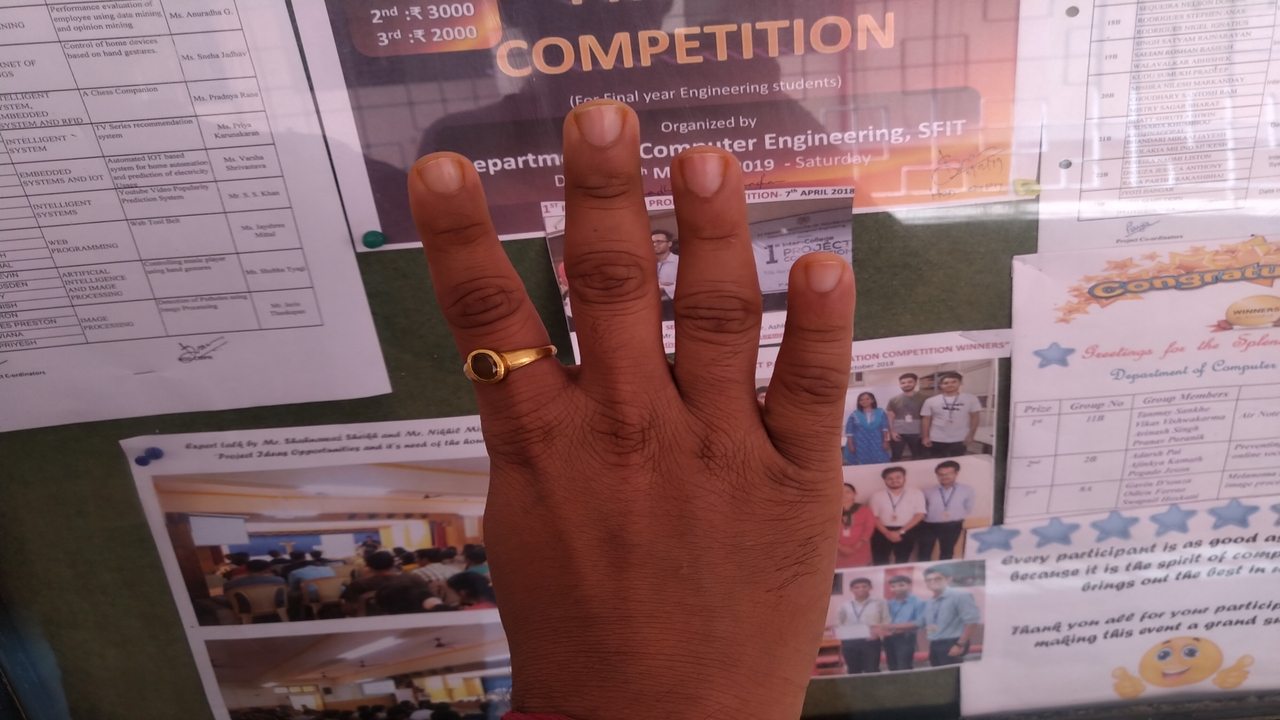fingertip: (556, 100, 640, 166), (670, 144, 746, 212), (404, 140, 474, 210), (788, 248, 856, 314)
